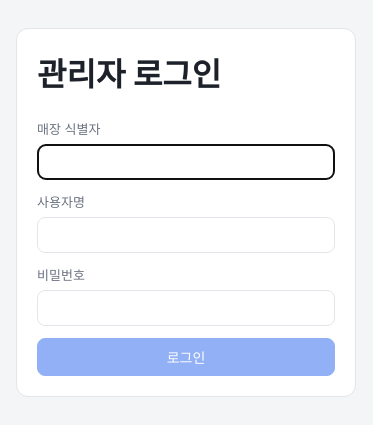
Test: LoginPage › disables submit until store_code, username and 8+ char password are present (BR-FA01)
Expected: the button "로그인" is disabled, [37,338,335,376]
Type "cafe1" into the field labelled "매장 식별자" at (186, 162), box [37,144,335,180]
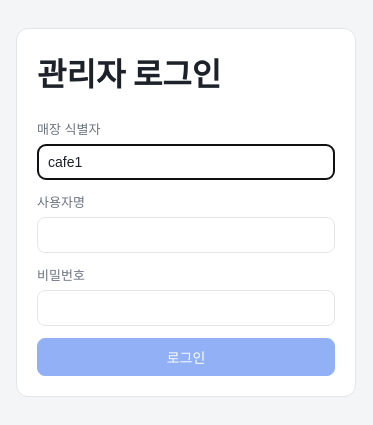
Type "owner" into the field labelled "사용자명" at (186, 234), box [37,216,335,252]
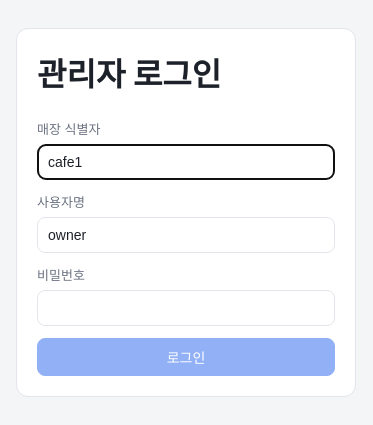
Type "short" into the password field labelled "비밀번호" at (186, 308), box [37,290,335,326]
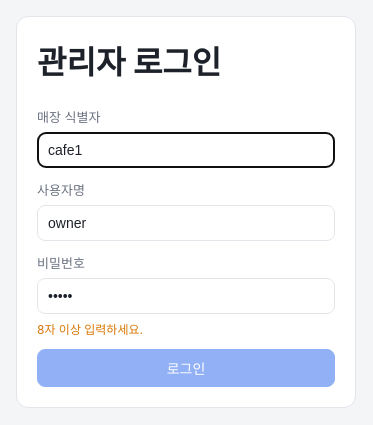
Expected: the button "로그인" is disabled, [37,349,335,387]
Type "longenough" into the password field labelled "비밀번호 8자 이상 입력하세요." at (186, 296), box [37,278,335,314]
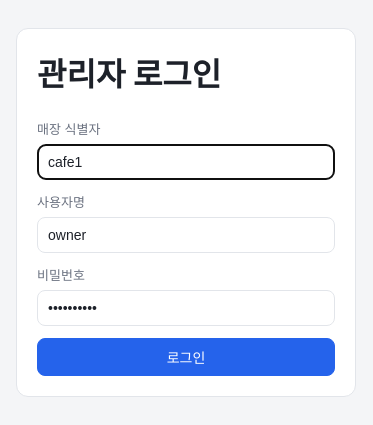
Expected: the button "로그인" is enabled, [37,338,335,376]
